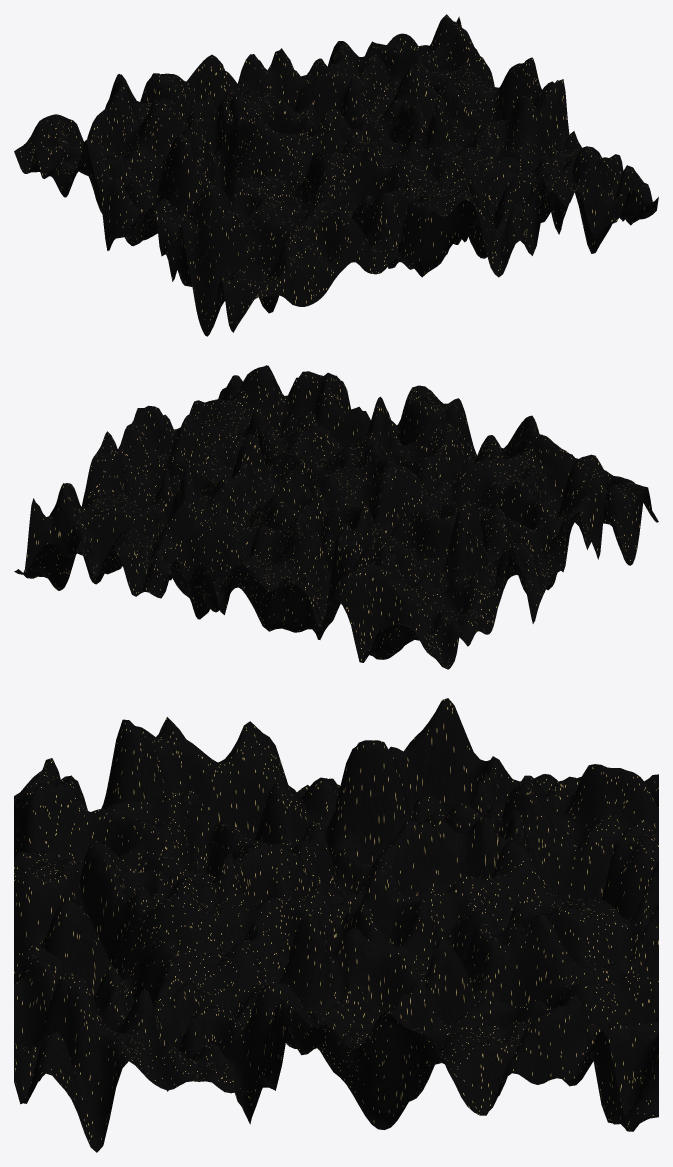
File: background_distorted_noise_03.obj
The picture shows the model from 3 angles, top to bottom: view 1: azimuth 30°, elevation 25°; view 2: azimuth 150°, elevation 25°; view 3: azimuth 270°, elevation 25°; orthographic projection. The views are drawn at different scales.
Bounding box in the file's own units: 2.24 × 0.575 × 2.
Materials: 1 (1 with a texture image).
